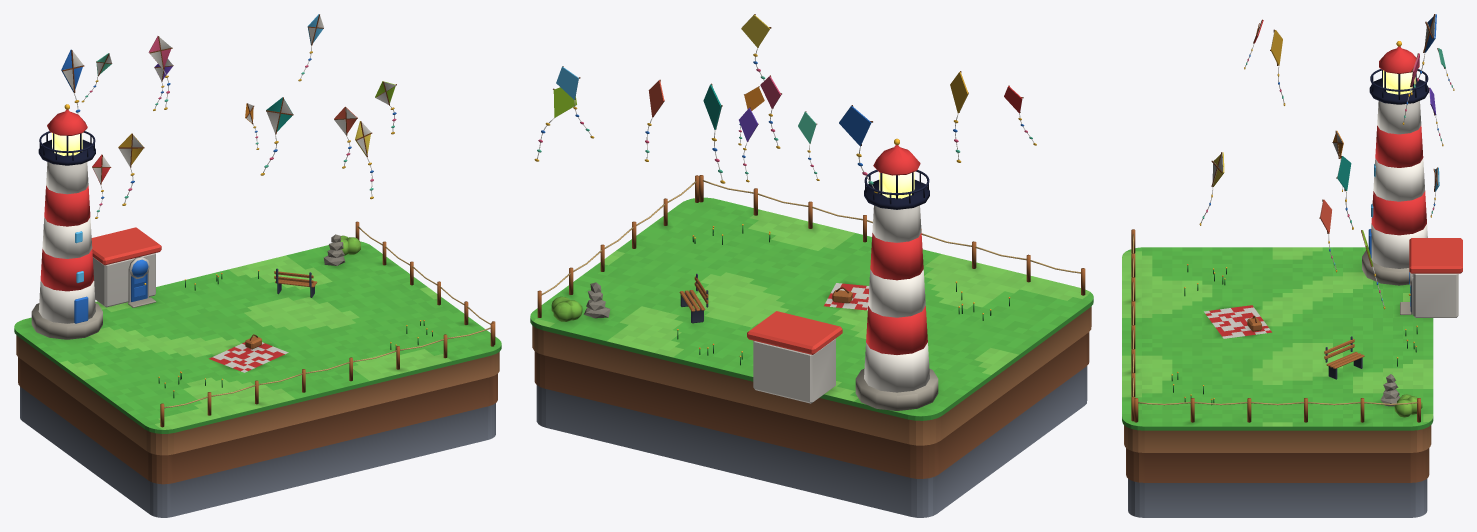
Rendered from clifftop.glb.
3 views of the same model, side by side, from view 1: azimuth 30°, elevation 25°; view 2: azimuth 150°, elevation 25°; view 3: azimuth 270°, elevation 25° (orthographic). The views are drawn at different scales.
Visible parts, largest first — view 1: clifftop_Satin, clifftop_Matte, clifftop_Gloss, Sway_kite7_Satin, Sway_kite2_Satin, Sway_kite1_Satin; view 2: clifftop_Satin, clifftop_Matte, clifftop_Gloss, Sway_kite2_Satin, clifftop_Glow_warm; view 3: clifftop_Matte, clifftop_Satin, clifftop_Gloss, clifftop_Glow_warm, Sway_kite7_Satin, Sway_kite2_Satin.
Part boxes in pixels (left/top/right/bottom): clifftop_Satin: left=16, top=133, right=499, bottom=517; clifftop_Matte: left=14, top=241, right=501, bottom=433; clifftop_Gloss: left=38, top=109, right=432, bottom=391; Sway_kite7_Satin: left=260, top=97, right=293, bottom=175; Sway_kite2_Satin: left=61, top=49, right=84, bottom=114; Sway_kite1_Satin: left=118, top=133, right=144, bottom=205; clifftop_Satin: left=532, top=172, right=1091, bottom=517; clifftop_Matte: left=530, top=197, right=1093, bottom=420; clifftop_Gloss: left=677, top=145, right=1010, bottom=392; Sway_kite2_Satin: left=839, top=105, right=877, bottom=193; clifftop_Glow_warm: left=879, top=172, right=914, bottom=198; clifftop_Matte: left=1122, top=247, right=1433, bottom=430; clifftop_Satin: left=1124, top=70, right=1458, bottom=517; clifftop_Gloss: left=1171, top=46, right=1462, bottom=400; clifftop_Glow_warm: left=1383, top=70, right=1415, bottom=94; Sway_kite7_Satin: left=1336, top=155, right=1353, bottom=229; Sway_kite2_Satin: left=1410, top=14, right=1436, bottom=95.
Bounding box in the file's own units: 15.57 × 14.1 × 12.05.
